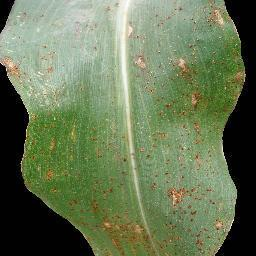Corn_Common_Rust: (133, 0, 246, 255), (16, 165, 132, 256), (0, 0, 103, 86), (11, 125, 127, 164), (12, 87, 75, 125), (105, 0, 123, 34), (124, 20, 133, 41)
